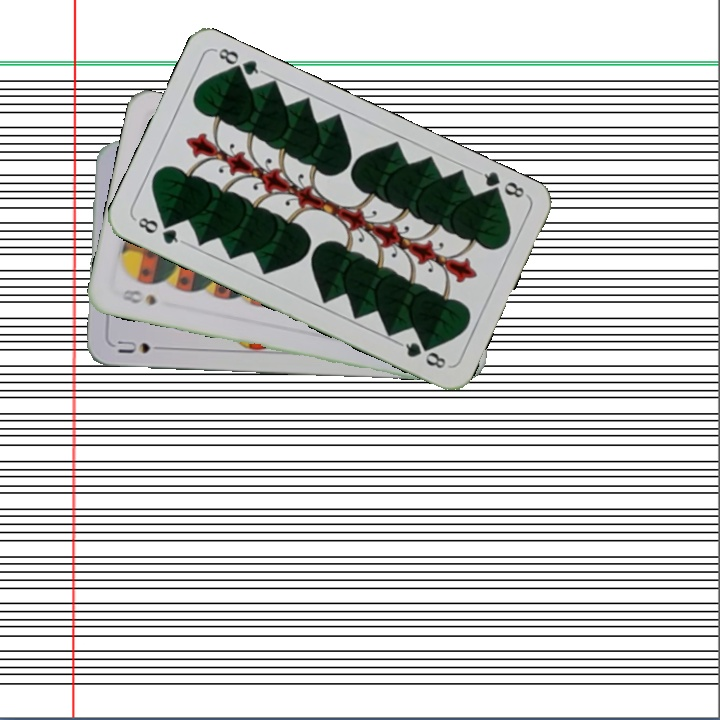G8: (474, 167, 529, 203), (131, 213, 187, 247)
S8: (118, 285, 159, 308)
SU: (113, 336, 170, 356)
